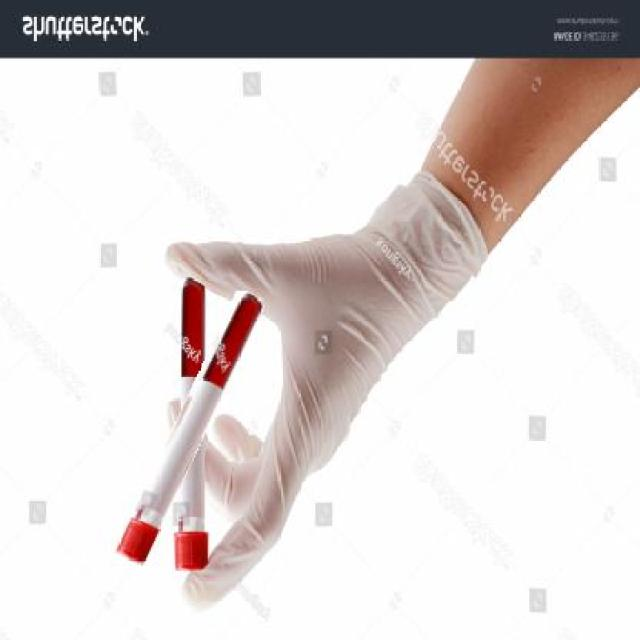Experimental-tube: (145, 285, 237, 569)
